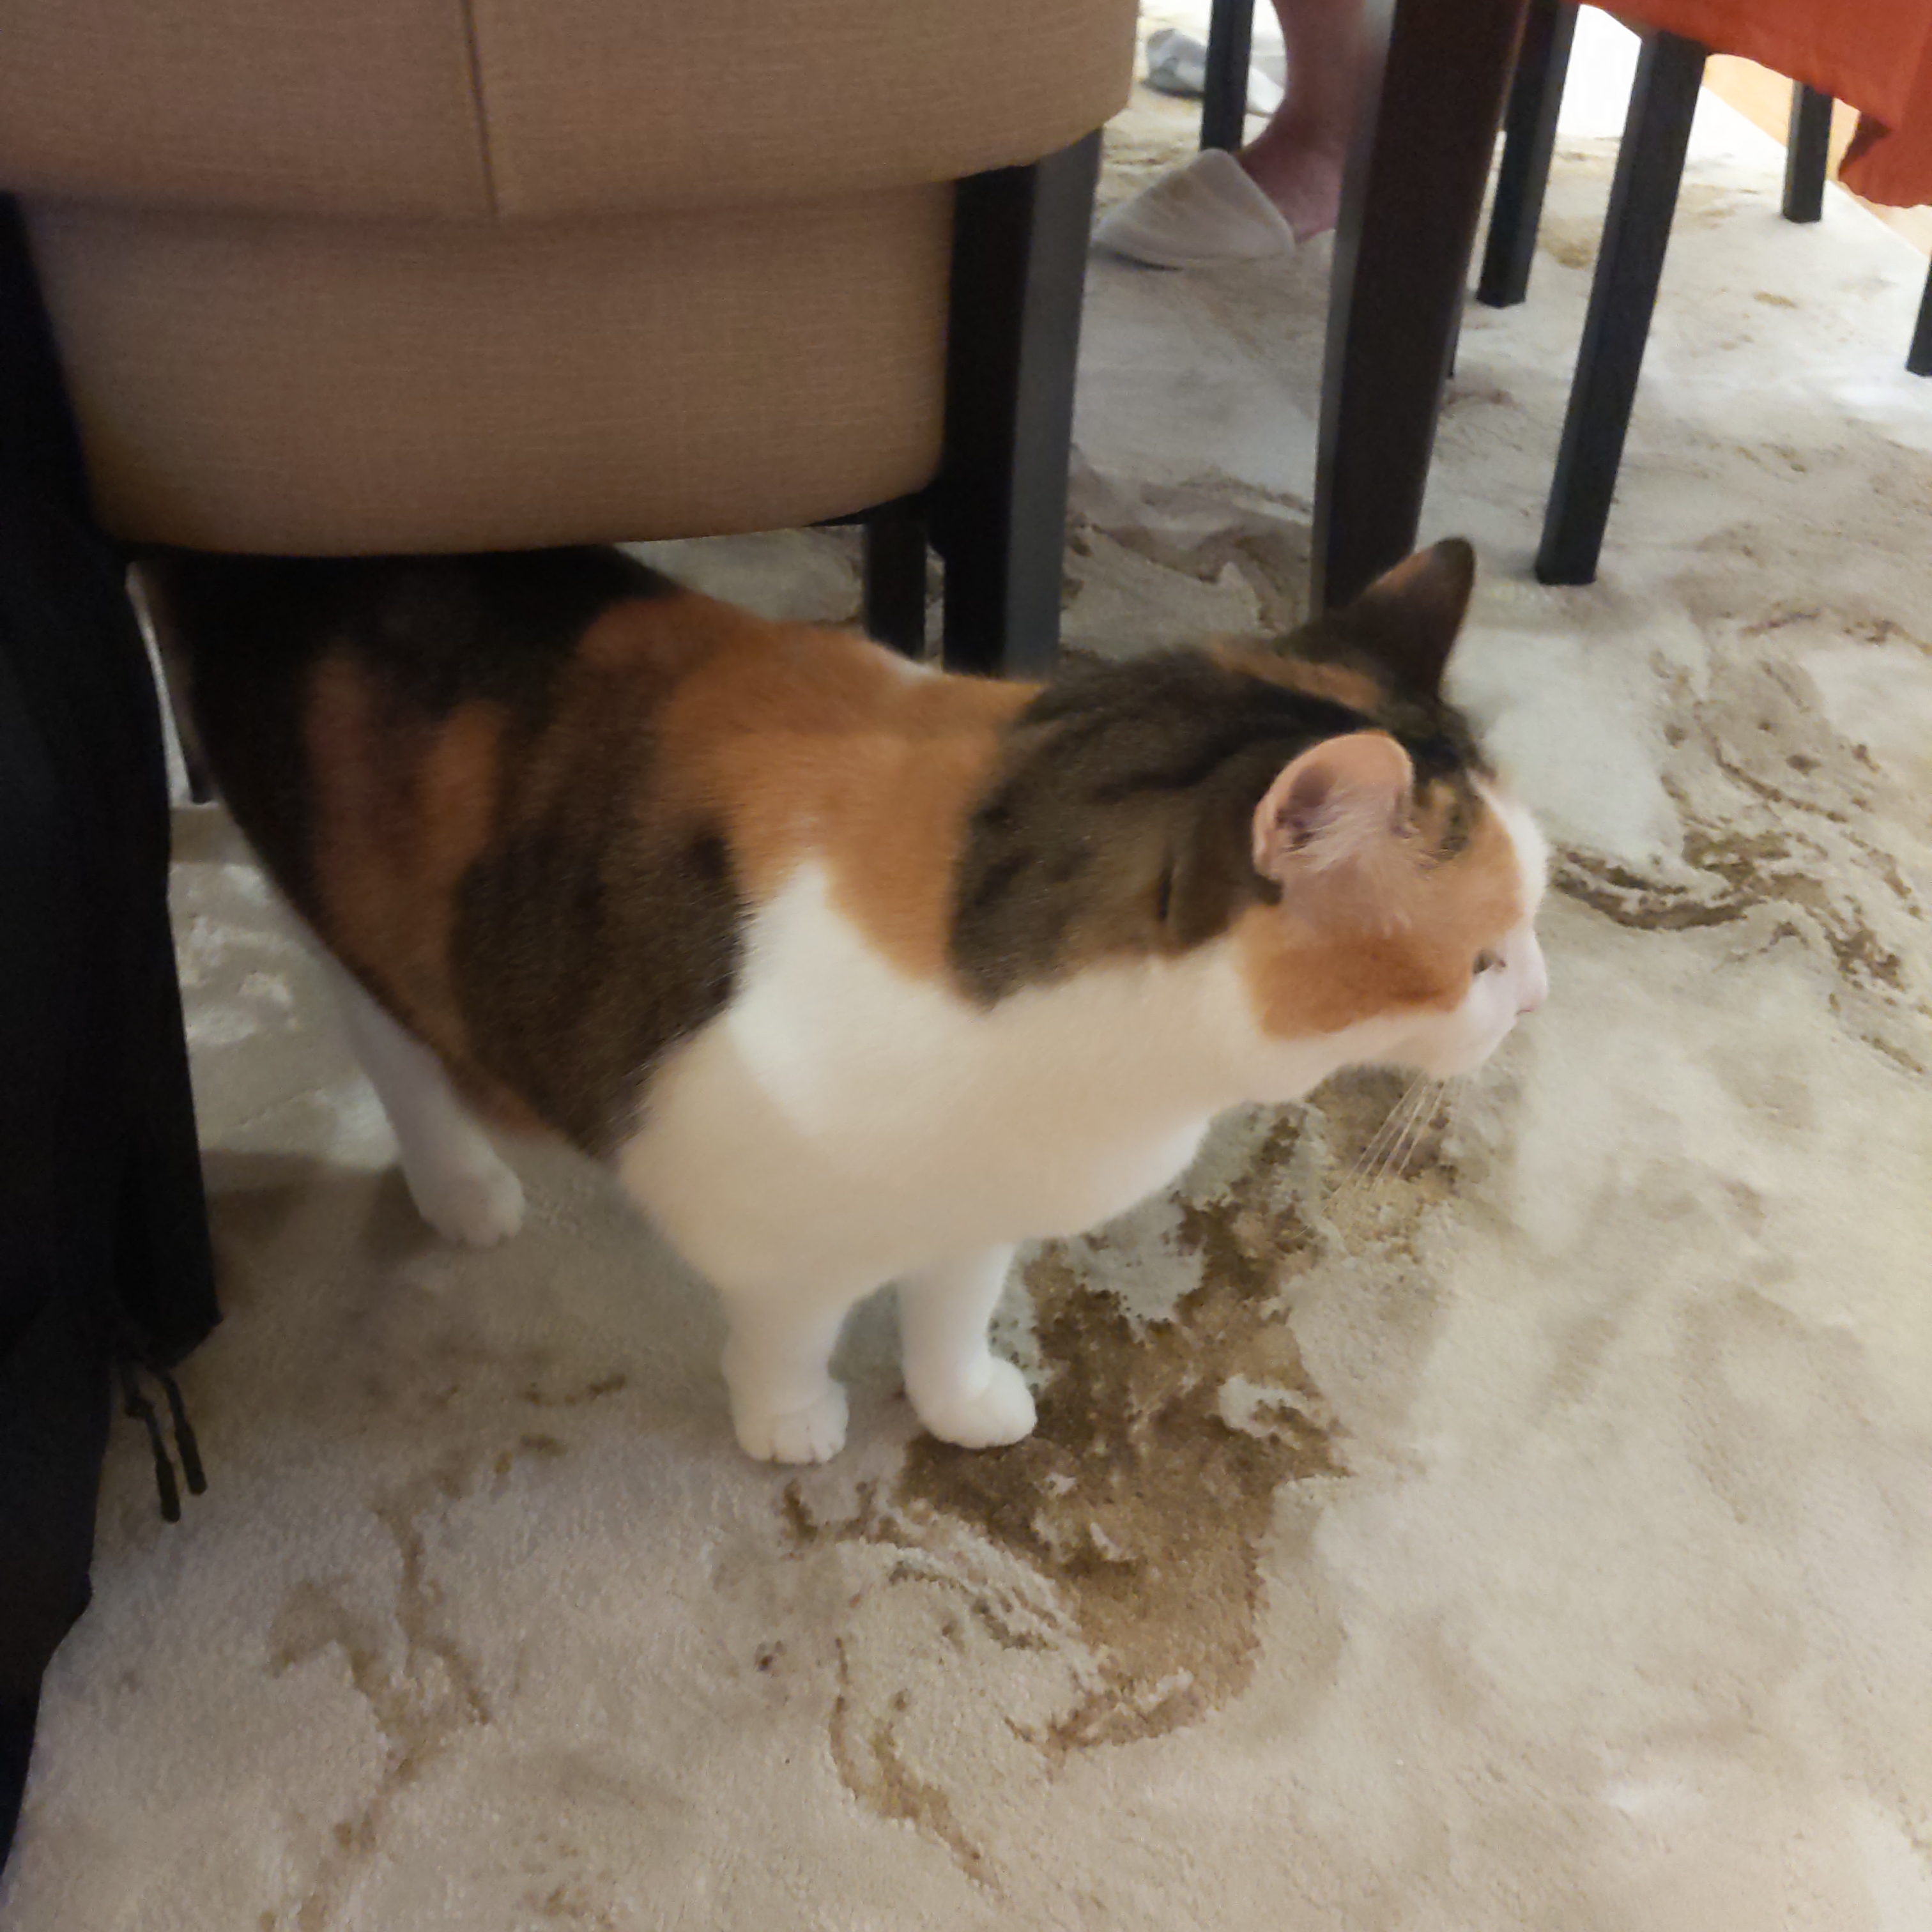Calico: (184, 538, 1550, 1465)
